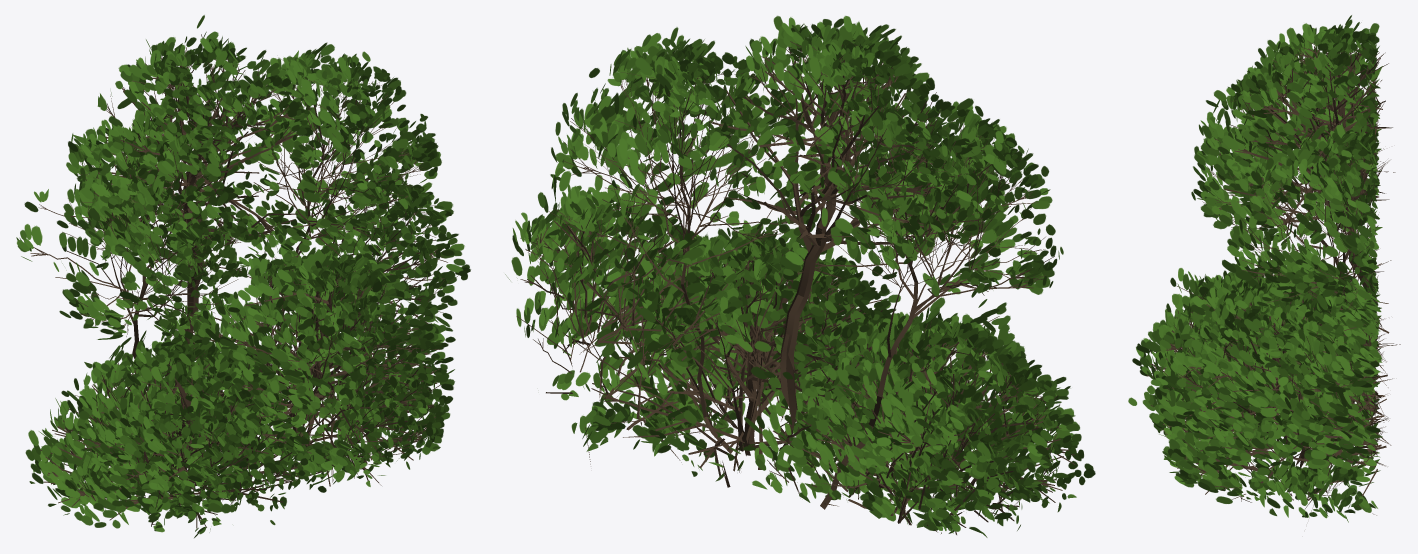
3 views of the same model, side by side, from view 1: azimuth 30°, elevation 25°; view 2: azimuth 150°, elevation 25°; view 3: azimuth 270°, elevation 25° (orthographic). The views are drawn at different scales.
Parts seen in each view (by area): view 1: oak 01.001_trunk_Mat.001_0.316; view 2: oak 01.001_trunk_Mat.001_0.316; view 3: oak 01.001_trunk_Mat.001_0.316.
Part boxes in pixels (x1,y1,x2,y2): oak 01.001_trunk_Mat.001_0.316: (16, 15, 470, 537); oak 01.001_trunk_Mat.001_0.316: (505, 15, 1095, 537); oak 01.001_trunk_Mat.001_0.316: (1128, 15, 1400, 522).
Size of the model in its own units: 4.69 by 4.27 by 2.56.
Materials: 2 (1 with a texture image).
